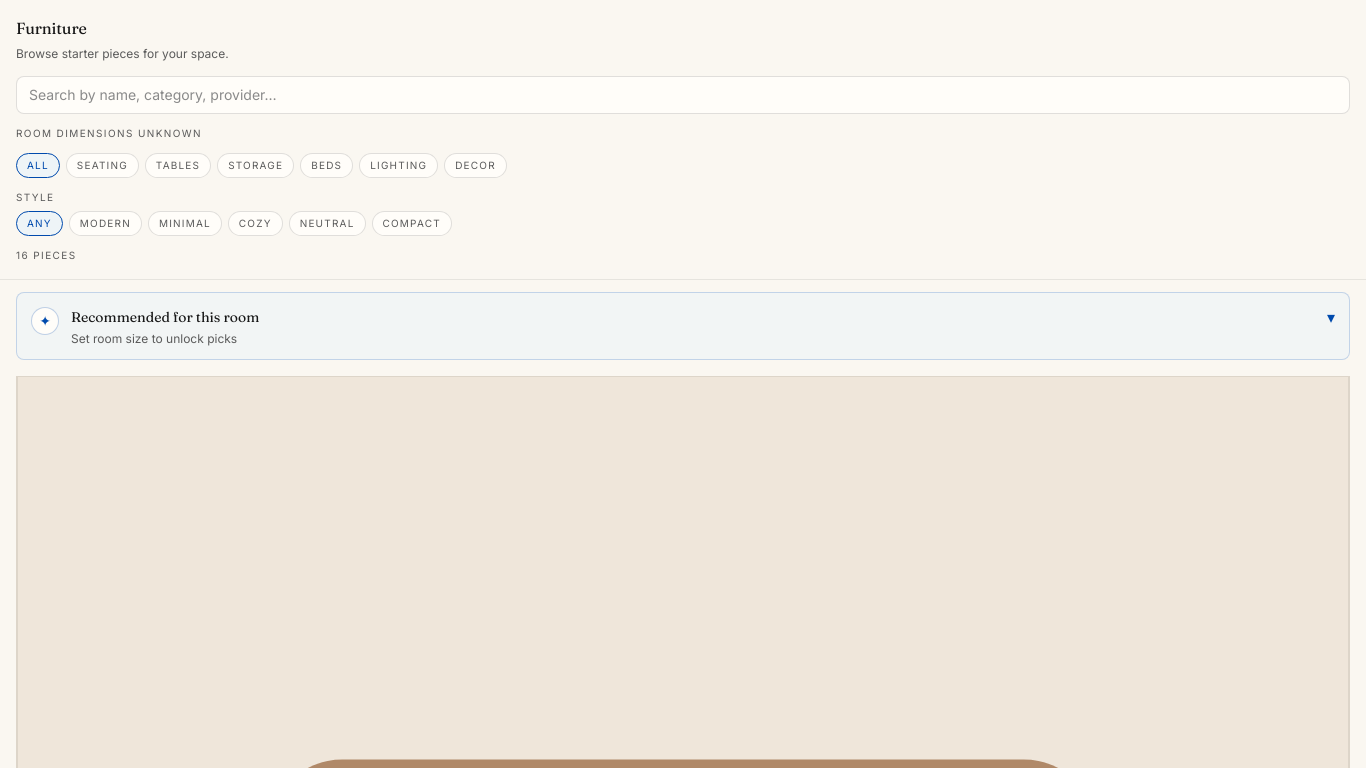
Test: FurnitureCatalogPanel › filters items by search query (name)
Type "queen" into the search field named "Search furniture".
click(683, 94); type("queen")  # box x1=16 y1=76 x2=1350 y2=114
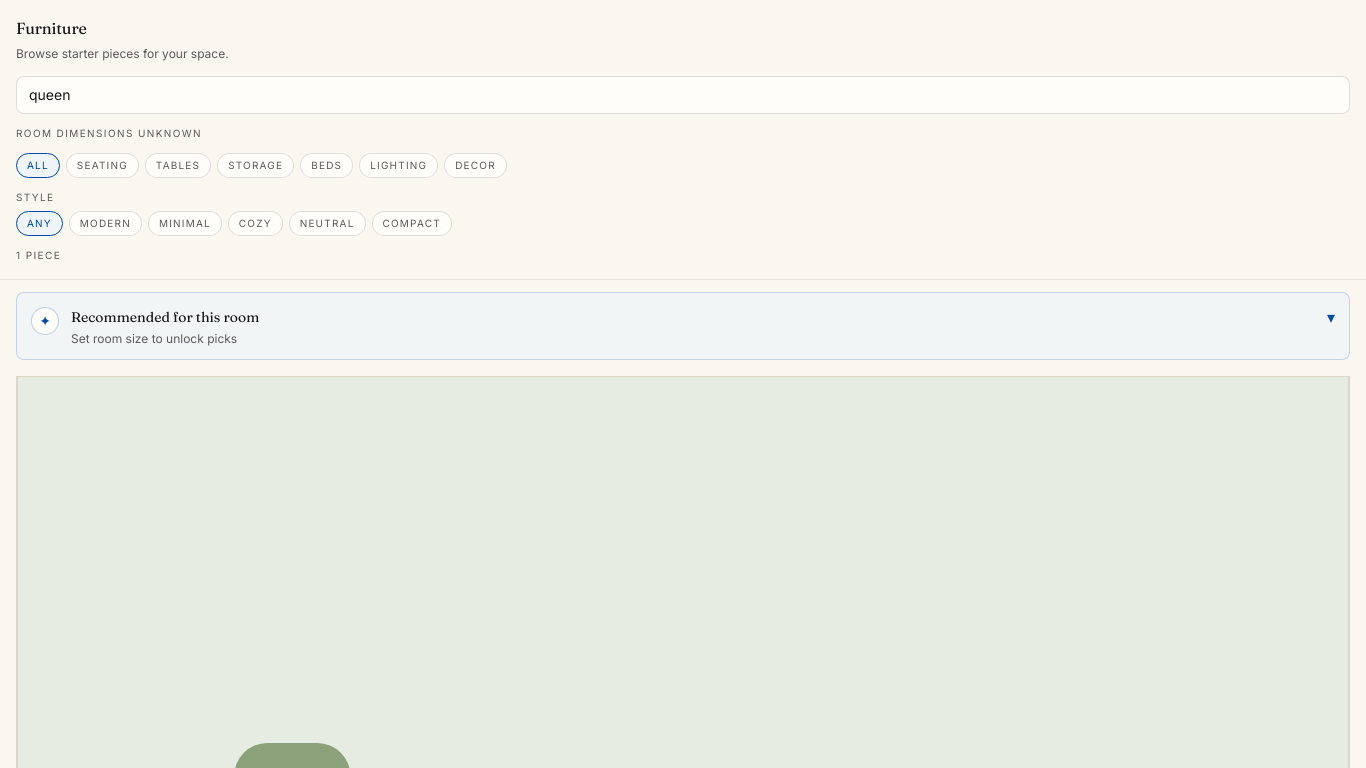
Expected: the text "1 piece" is shown, x1=16 y1=248 x2=61 y2=260
